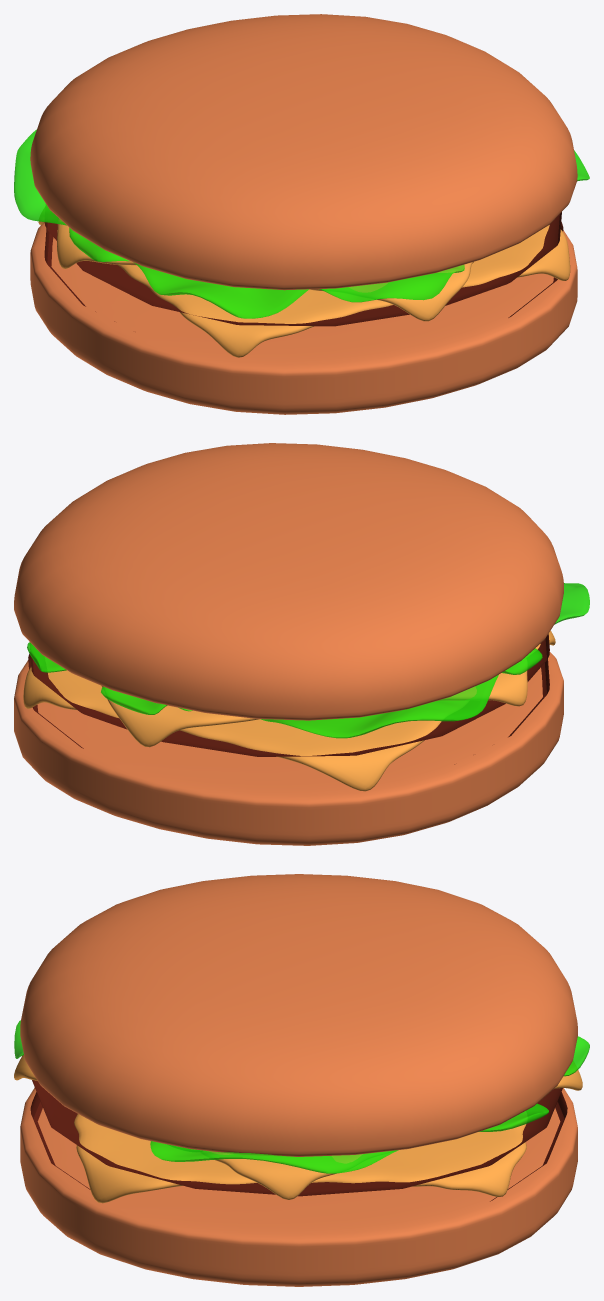
Rendered from hamburger.glb.
3 renders of one model, top to bottom at view 1: azimuth 30°, elevation 25°; view 2: azimuth 150°, elevation 25°; view 3: azimuth 270°, elevation 25°, orthographic. The views are drawn at different scales.
Parts seen in each view (by area): view 1: Cube.002, Cube, Cheese 1, Cube.003, Lettuce.001, Cheese 2, Lettuce, Lettuce.003, Lettuce.002; view 2: Cube.002, Cube, Cheese 1, Cheese 2, Lettuce.003, Cube.003, Lettuce.001, Lettuce, Cube.001; view 3: Cube.002, Cube, Cheese 1, Cube.003, Cheese 2, Lettuce.002, Cube.001, Lettuce, Lettuce.001.
Part boxes in pixels (x1,y1,x2,y2): Cube.002: [30, 14, 577, 290]; Cube: [30, 223, 577, 414]; Cheese 1: [38, 221, 570, 357]; Cube.003: [44, 212, 561, 326]; Lettuce.001: [133, 262, 308, 318]; Cheese 2: [57, 218, 473, 321]; Lettuce: [319, 265, 464, 302]; Lettuce.003: [14, 129, 66, 225]; Lettuce.002: [69, 150, 589, 261]; Cube.002: [14, 443, 563, 720]; Cube: [14, 652, 563, 845]; Cheese 1: [23, 630, 555, 791]; Cheese 2: [101, 670, 527, 747]; Lettuce.003: [260, 674, 498, 738]; Cube.003: [30, 634, 549, 756]; Lettuce.001: [27, 583, 589, 672]; Lettuce: [101, 686, 192, 714]; Cube.001: [28, 653, 549, 764]; Cube.002: [20, 874, 577, 1156]; Cube: [20, 1087, 577, 1286]; Cheese 1: [74, 1114, 526, 1203]; Cube.003: [32, 1080, 562, 1196]; Cheese 2: [14, 1055, 582, 1199]; Lettuce.002: [150, 1141, 398, 1173]; Cube.001: [30, 1092, 567, 1201]; Lettuce: [14, 1020, 589, 1076]; Lettuce.001: [479, 1103, 548, 1131].
Bounding box in the file's own units: 9.37 × 4.37 × 9.47.
